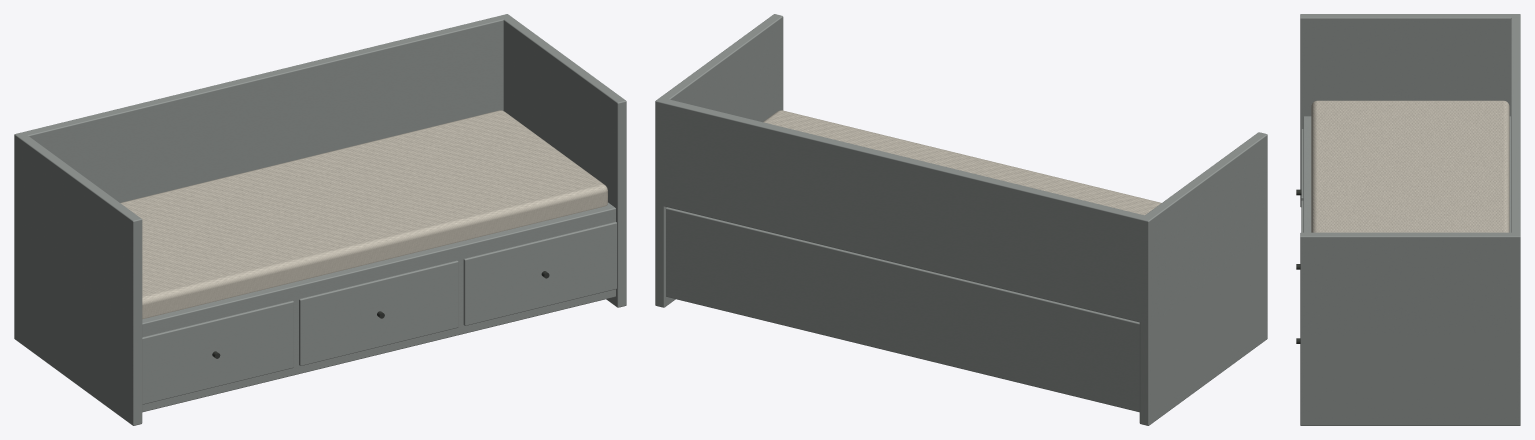
File: hemnes-daybed.glb
The picture shows the model from 3 angles, left to right: view 1: azimuth 30°, elevation 25°; view 2: azimuth 150°, elevation 25°; view 3: azimuth 270°, elevation 25°; orthographic projection. The views are drawn at different scales.
Parts seen in each view (by area): view 1: HEMNES Daybed with 3 drawers; view 2: HEMNES Daybed with 3 drawers; view 3: HEMNES Daybed with 3 drawers.
Boxes of the visible parts, x1,y1,x2,y2 form: HEMNES Daybed with 3 drawers: [14, 14, 626, 425]; HEMNES Daybed with 3 drawers: [655, 14, 1267, 425]; HEMNES Daybed with 3 drawers: [1296, 14, 1520, 425].
Bounding box in the file's own units: 2.09 × 0.83 × 0.89.
Materials: 3 (3 with a texture image).
